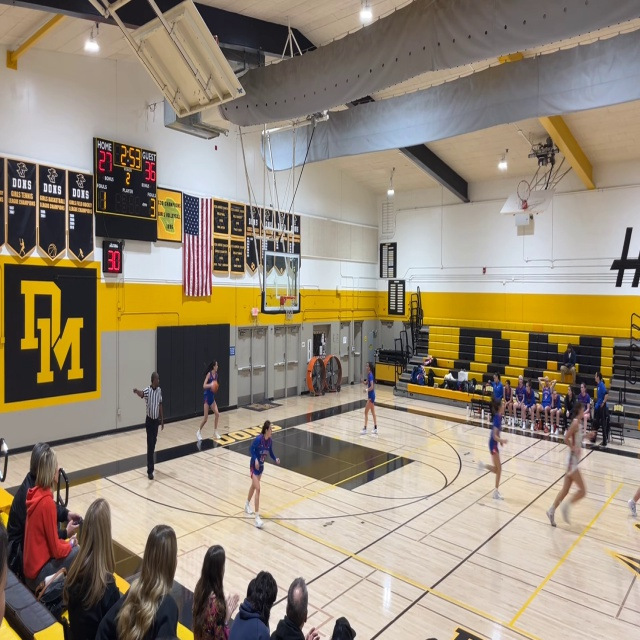Basketball: (211, 381, 219, 393)
